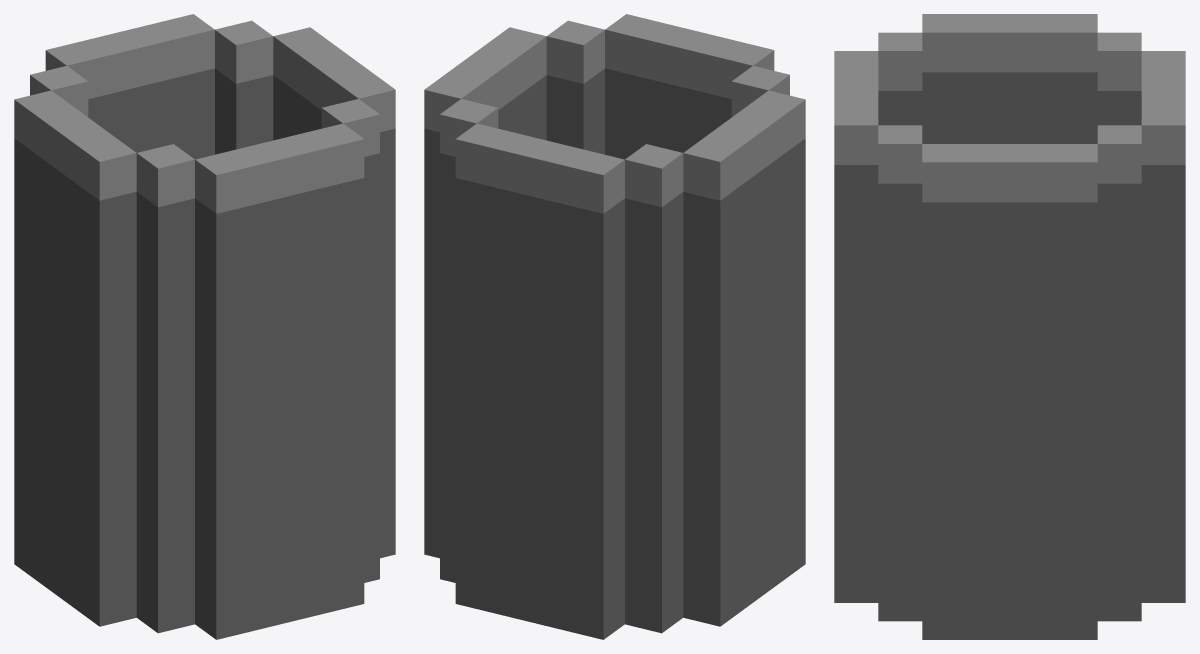
The model's file is GarbageCan.obj.
3 renders of one model, left to right at view 1: azimuth 30°, elevation 25°; view 2: azimuth 150°, elevation 25°; view 3: azimuth 270°, elevation 25°, orthographic. The views are drawn at different scales.
Visible parts, largest first — view 1: GarbageCan; view 2: GarbageCan; view 3: GarbageCan.
Part boxes in pixels (left/top/right/bottom): GarbageCan: left=14, top=14, right=395, bottom=639; GarbageCan: left=424, top=14, right=805, bottom=639; GarbageCan: left=834, top=14, right=1185, bottom=639.
Size of the model in its own units: 8 by 12 by 8.
Materials: 1 (1 with a texture image).
